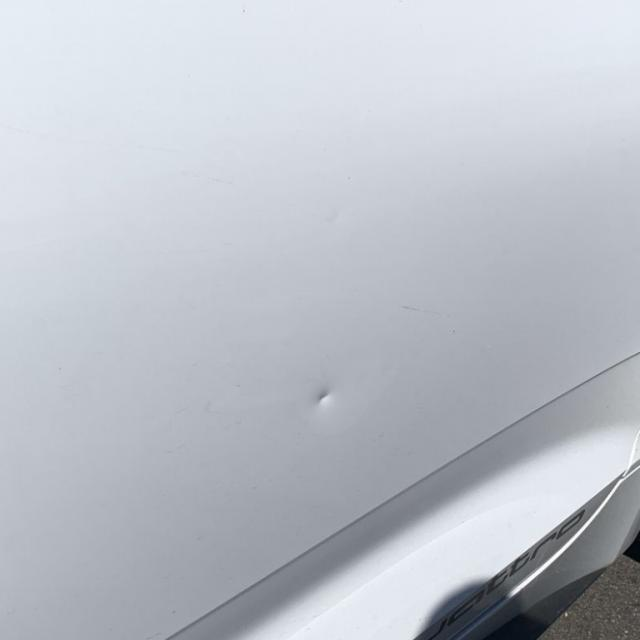dents: (257, 370, 365, 432)
